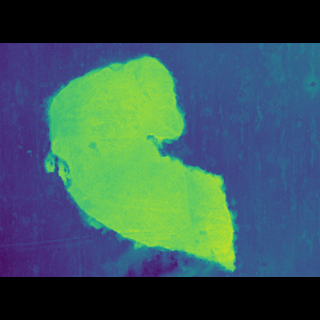Loch: (37, 79, 247, 245)
